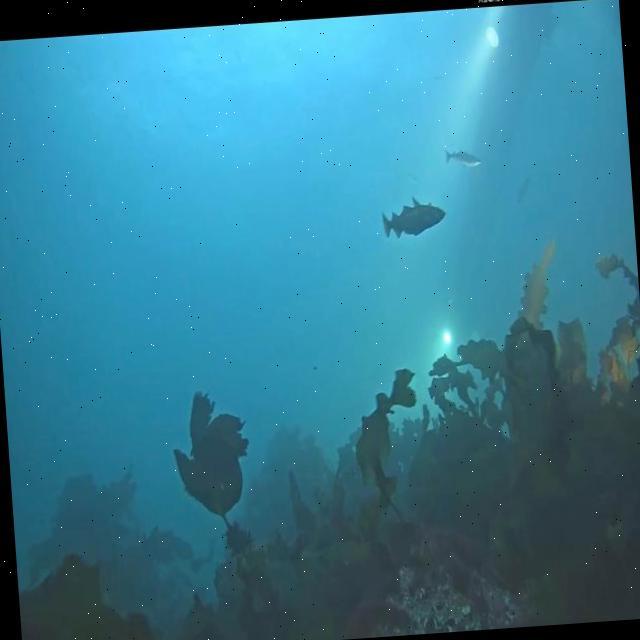fish: (380, 194, 448, 238), (444, 146, 482, 166)
